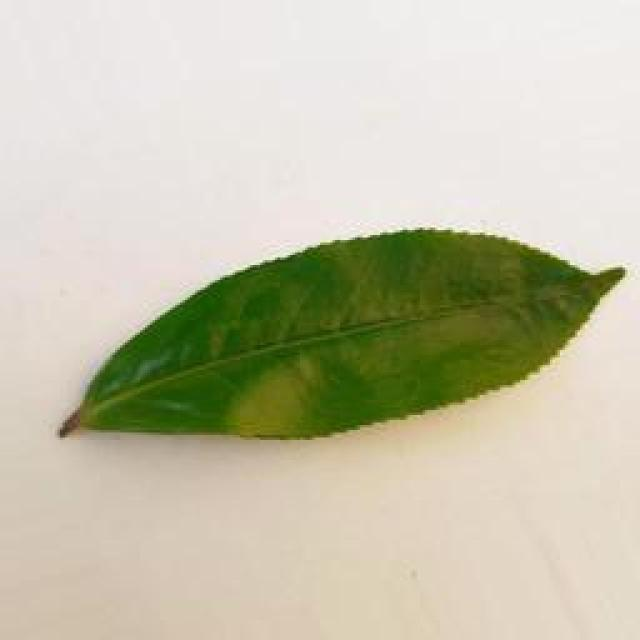Healthy: (51, 216, 634, 465)
